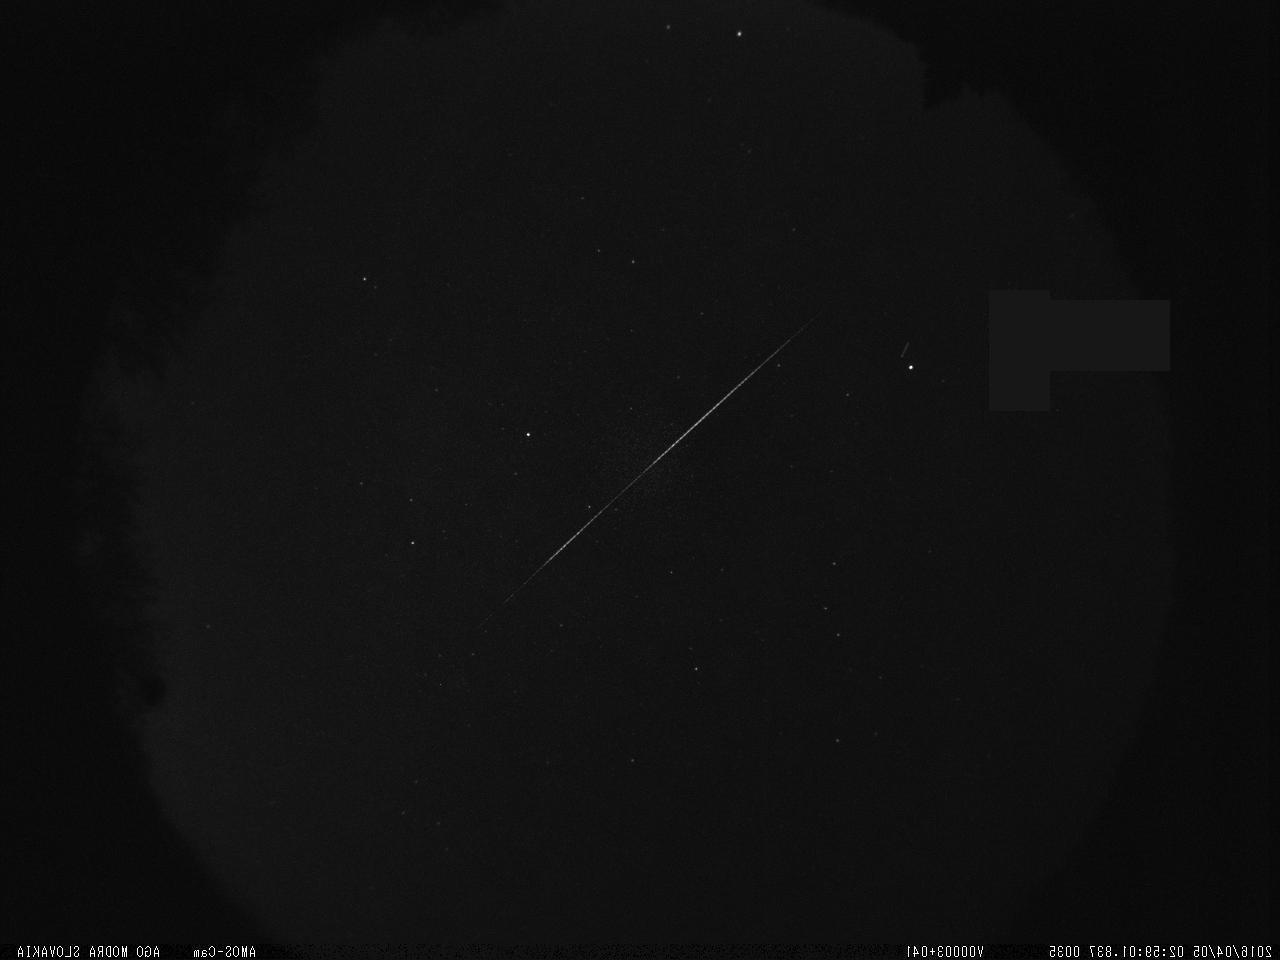meteor: (455, 287, 847, 650)
